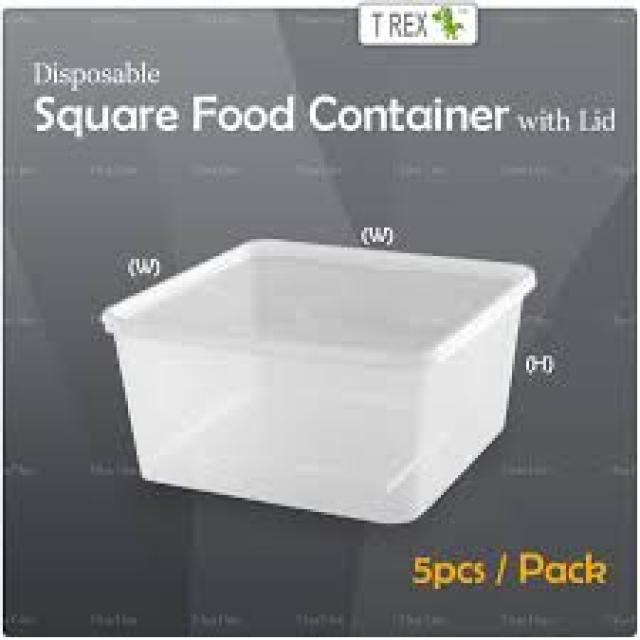disposable: (105, 200, 543, 524)
